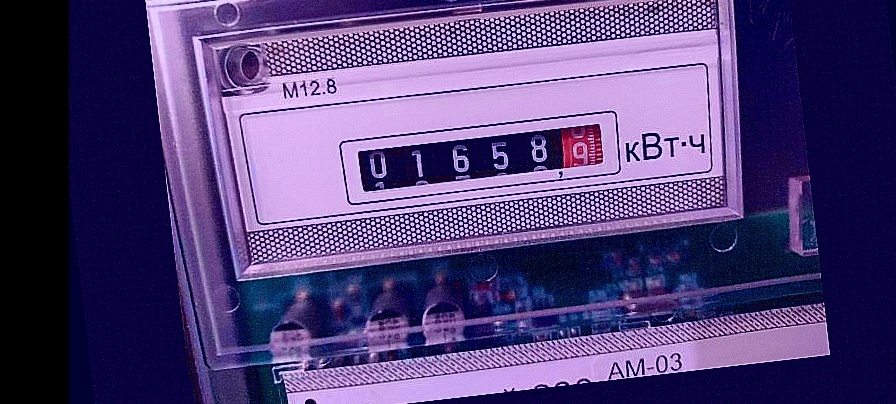0: (366, 146, 390, 180)
1: (410, 146, 427, 178)
5: (490, 137, 512, 171)
6: (450, 141, 473, 174)
8: (528, 131, 551, 165)
9: (569, 138, 590, 166)
screen: (331, 99, 629, 211)
